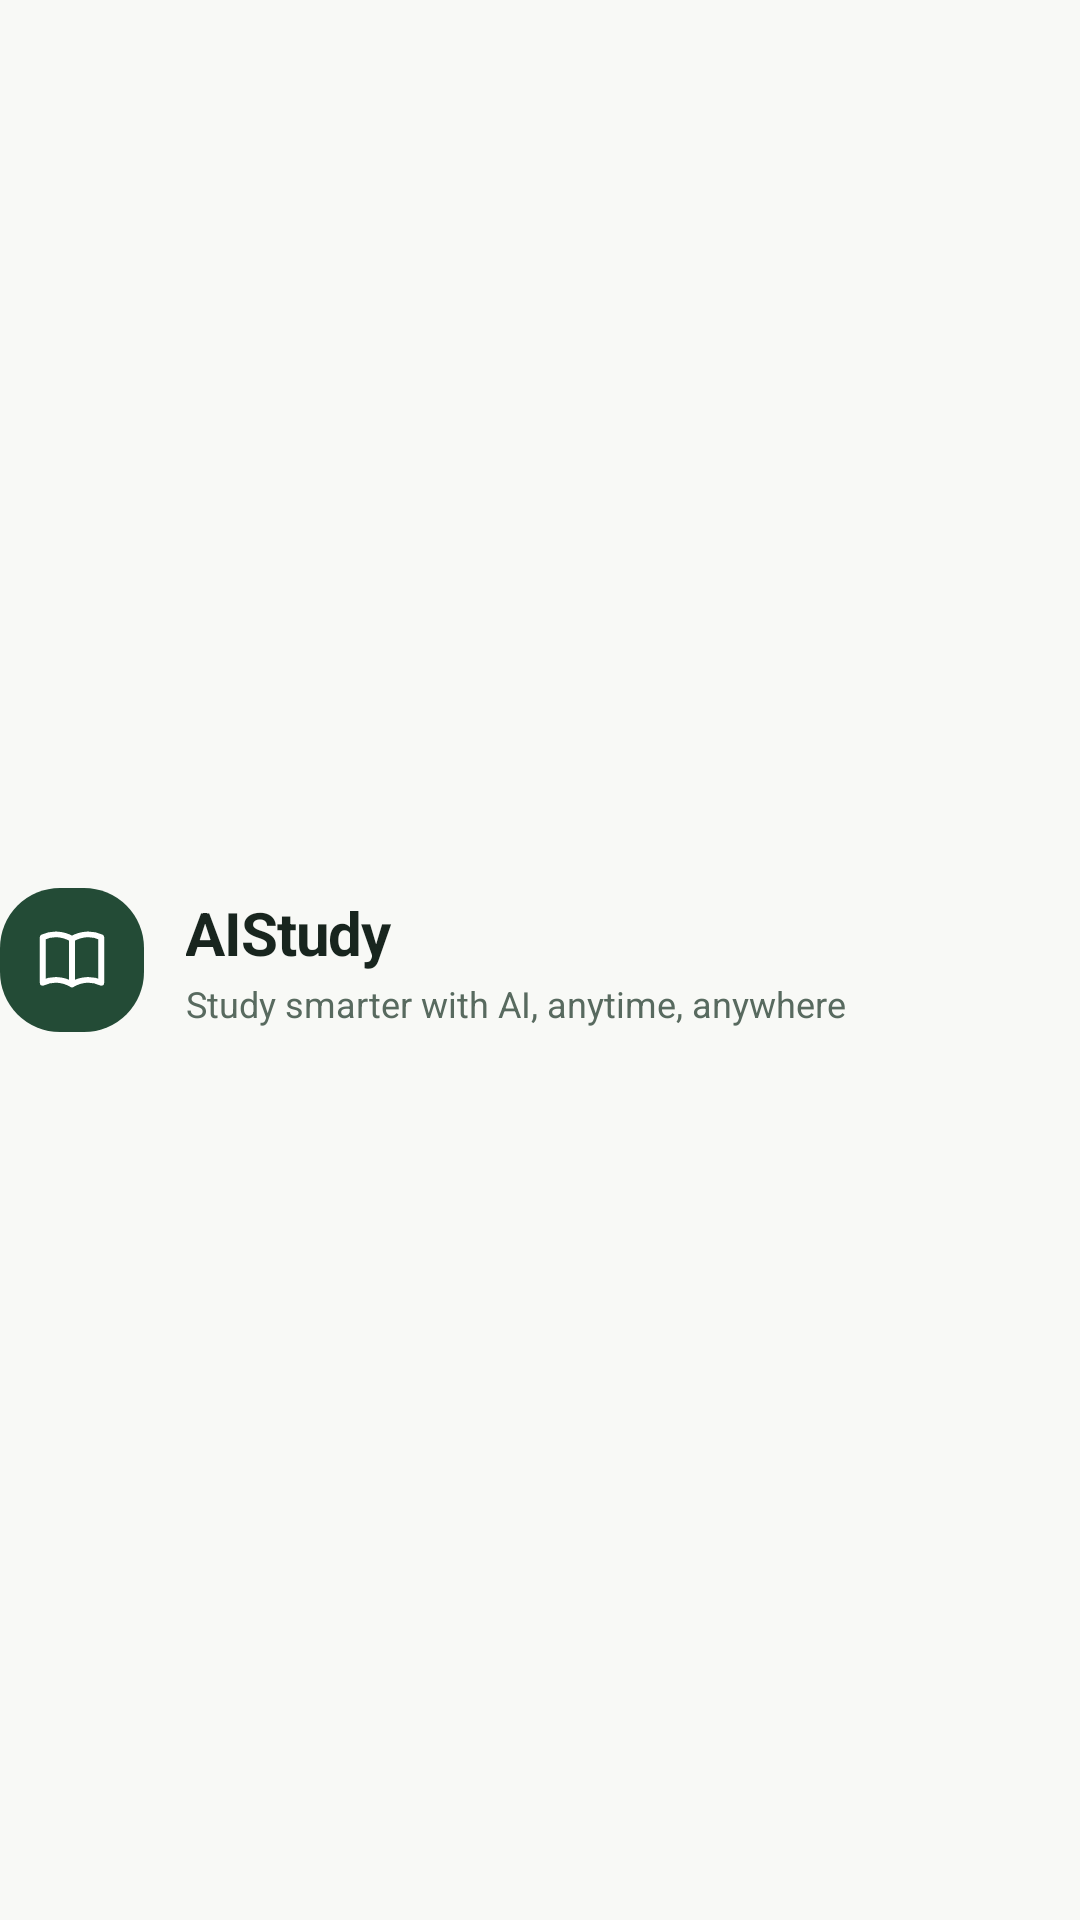

Where icons sit on this 1080 × 1920 app screen, as rect(x1, y1, x2, y2):
answer book: rect(39, 931, 105, 988)
